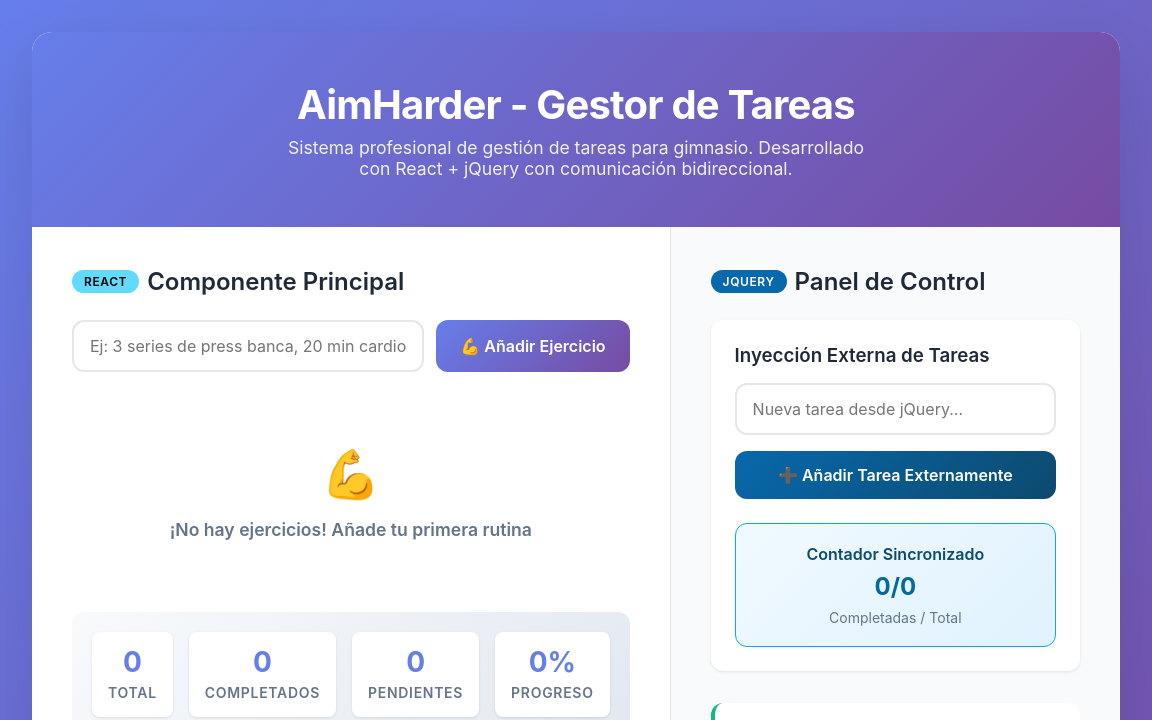
it: Todo App › shows error for duplicate tasks
This screenshot has width=1152, height=720.
Type "Duplicada" into the field with id "task-input-jq".
click(896, 409); type("Duplicada")  # box top-left (735, 383), bottom-right (1056, 435)
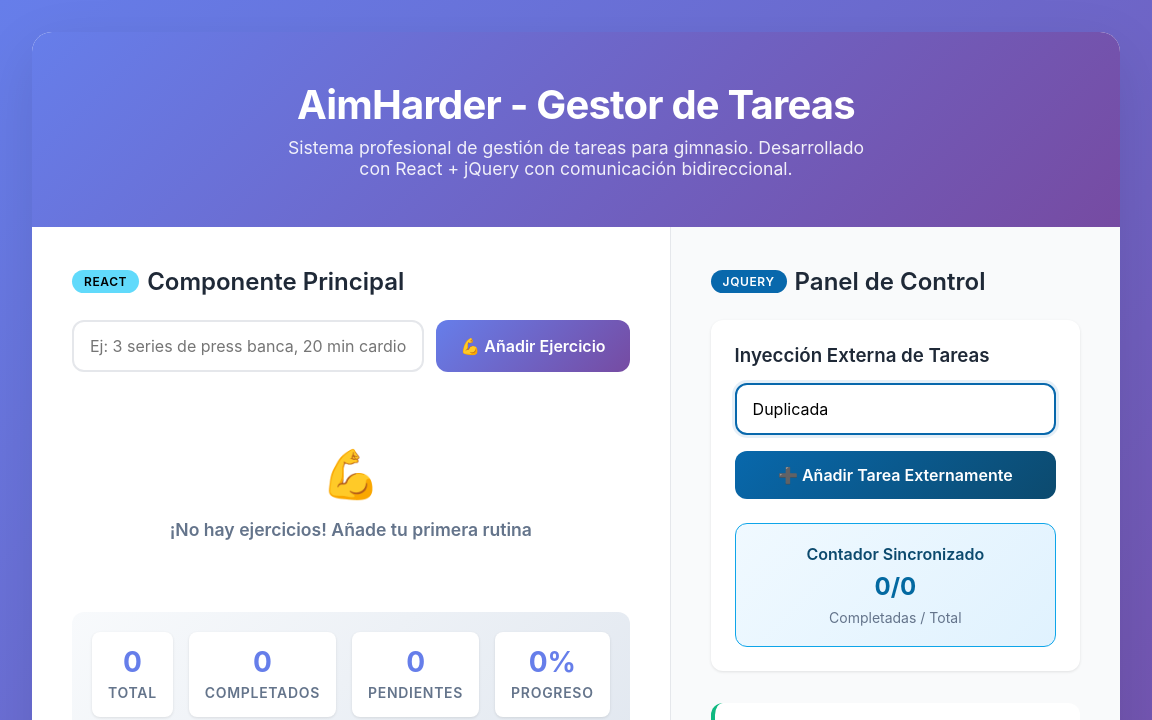
Click the button with id "add-task-jq".
click(896, 475)  # box top-left (735, 451), bottom-right (1056, 499)
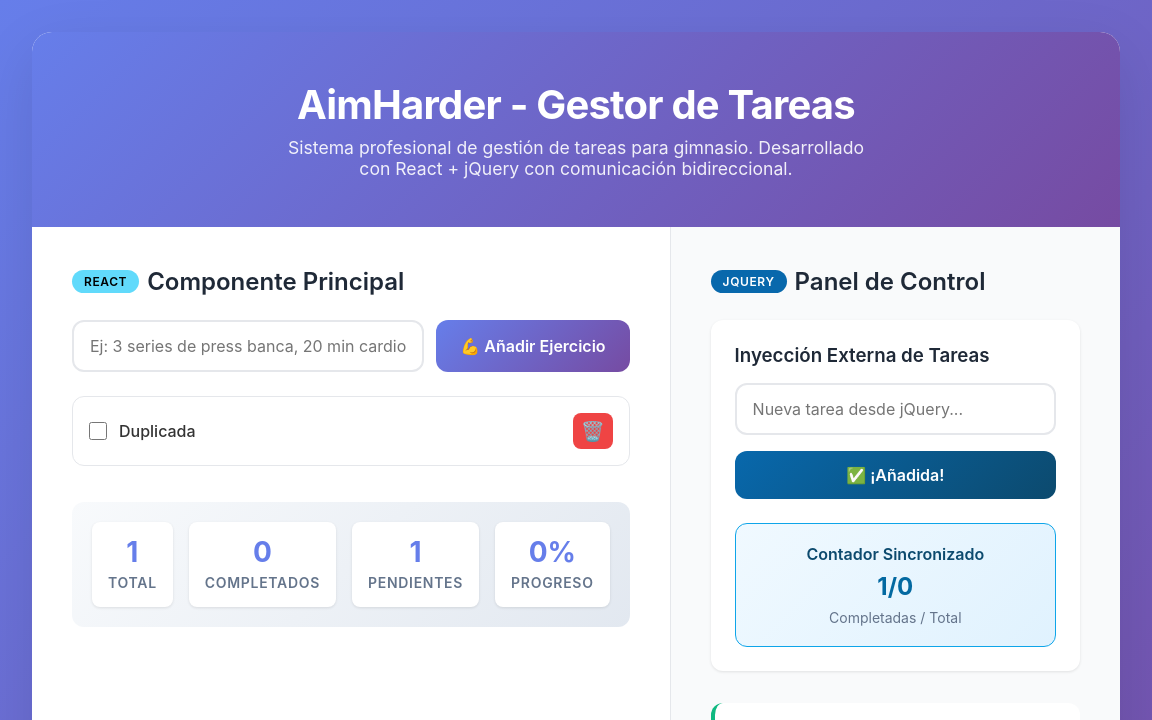
Type "duplicada" into the field with id "task-input-jq".
click(896, 409); type("duplicada")  # box top-left (735, 383), bottom-right (1056, 435)
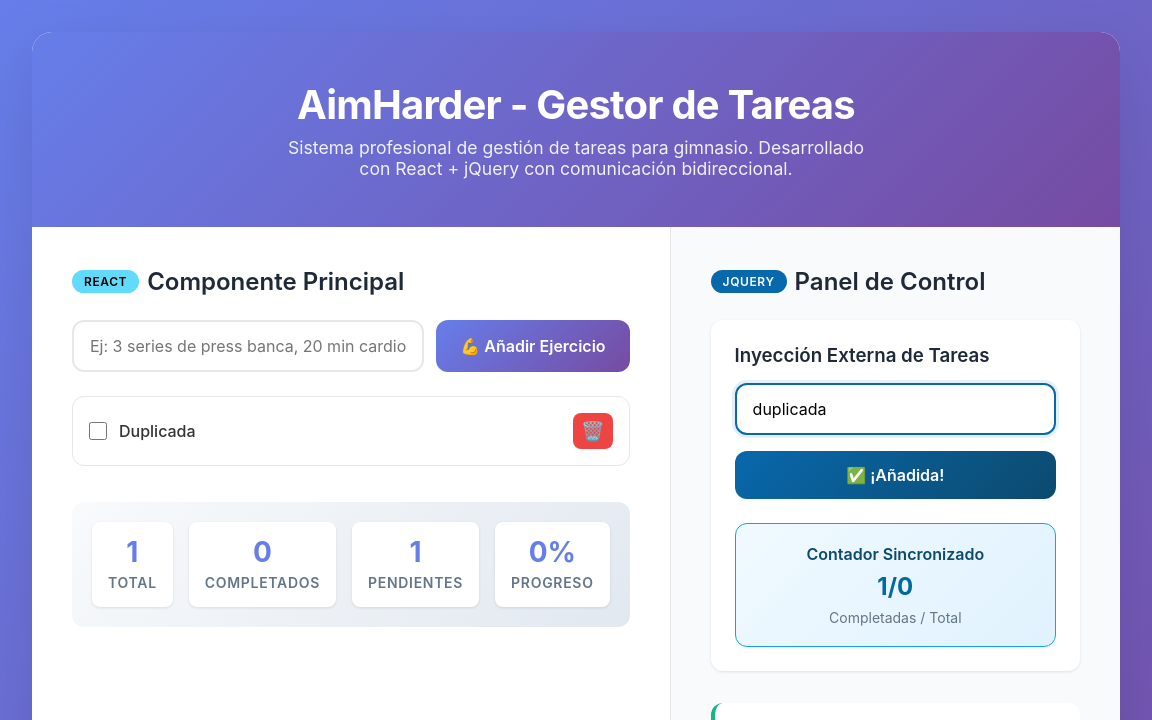
Click the button with id "add-task-jq".
click(896, 475)  # box top-left (735, 451), bottom-right (1056, 499)
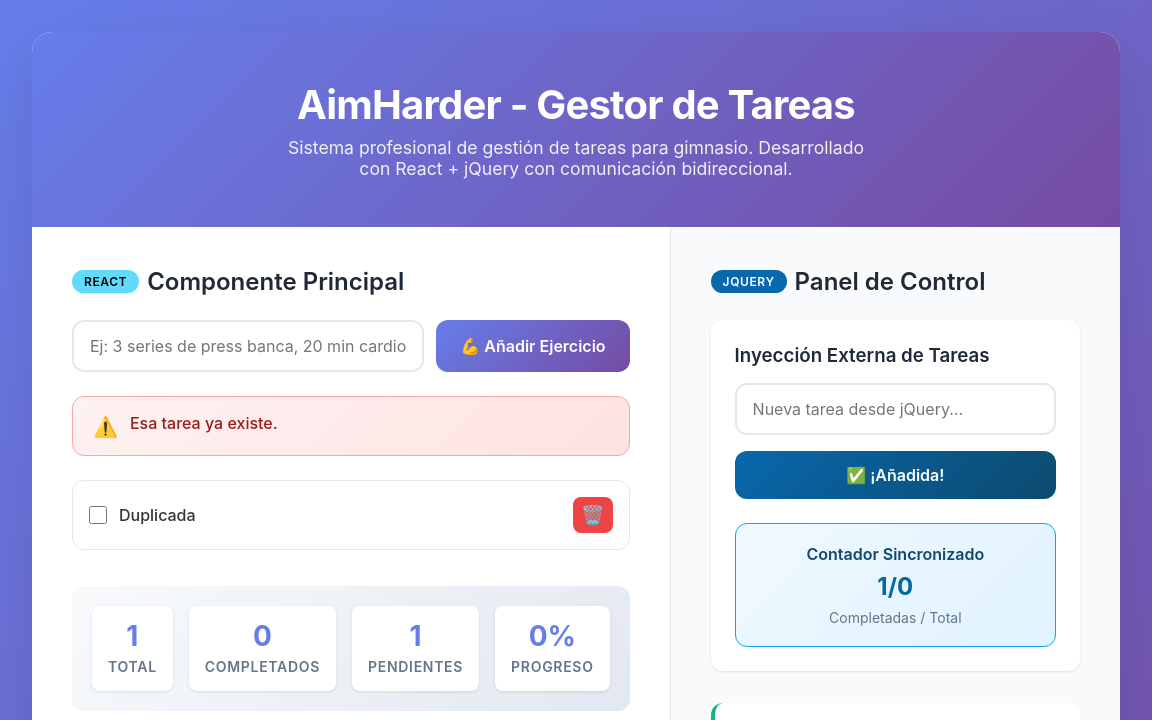
Result: the text with id "task-count" reads "1/0" at top-left (877, 572), bottom-right (913, 601)
Result: the text "ya existe" is shown at top-left (130, 413), bottom-right (278, 433)
